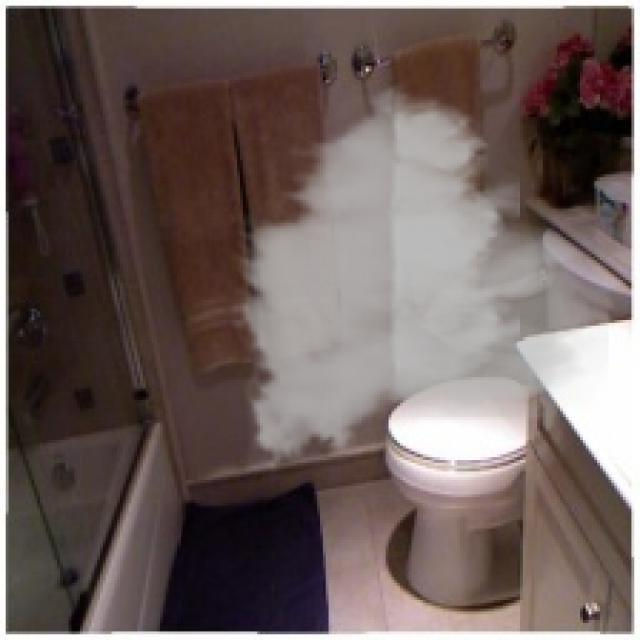Smoke: (226, 74, 608, 480)
